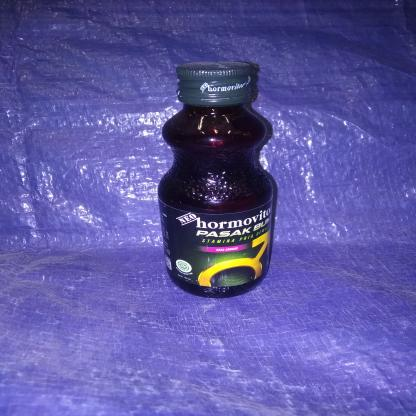bottle: (155, 54, 284, 297)
